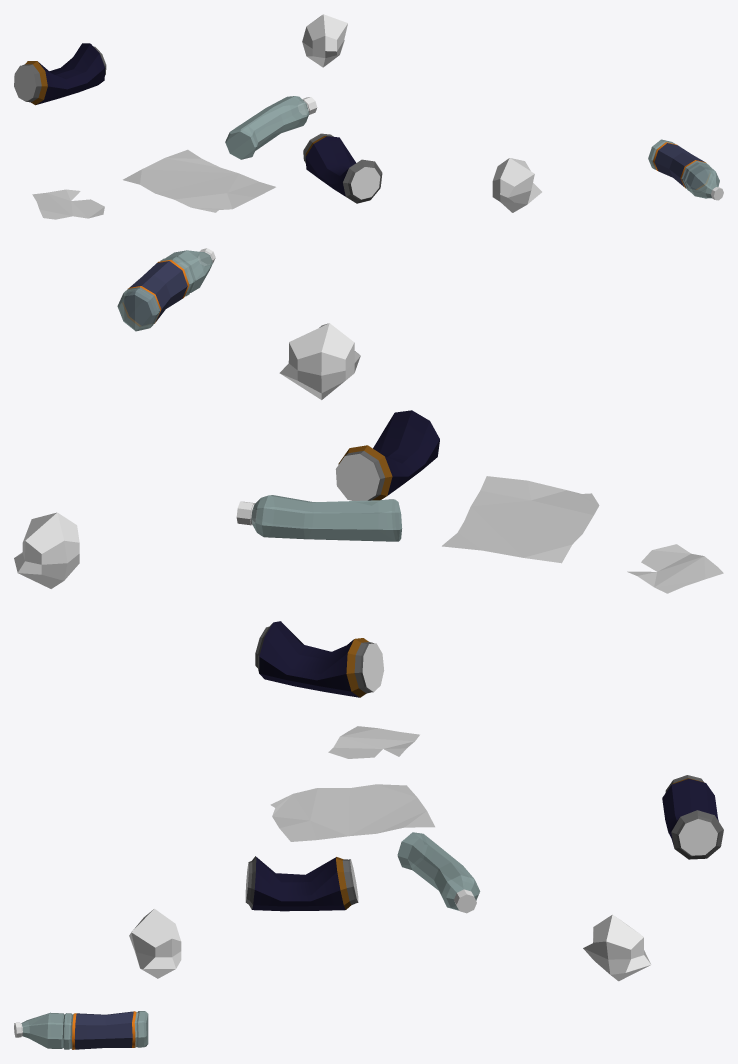
File: WarehouseTrash6.glb
The picture shows the model from 3 angles, top to bottom: view 1: azimuth 30°, elevation 25°; view 2: azimuth 150°, elevation 25°; view 3: azimuth 270°, elevation 25°; orthographic projection. The views are drawn at different scales.
Parts seen in each view (by area): view 1: SM_Paper_04.006, Soda.010, Soda.011, SM_Bottle_A_02.003, SM_Bottle_A_01.002, CrumpledPaper.006, CrumpledPaper.005, SM_Paper_03.004; view 2: SM_Paper_04.006, SM_Bottle_A_02.003, Soda.010, Soda.011, SM_Bottle_A_01.002, CrumpledPaper.006, CrumpledPaper.005, SM_Paper_03.004; view 3: SM_Paper_04.006, Soda.011, SM_Bottle_A_01.002, Soda.010, SM_Bottle_A_02.003, CrumpledPaper.005, CrumpledPaper.006, SM_Paper_03.004.
Part boxes in pixels (box(x1,y1,x2,y2)): SM_Paper_04.006: box(123, 149, 275, 212); Soda.010: box(14, 43, 106, 105); Soda.011: box(303, 133, 382, 203); SM_Bottle_A_02.003: box(225, 96, 317, 159); SM_Bottle_A_01.002: box(648, 139, 723, 200); CrumpledPaper.006: box(492, 158, 541, 212); CrumpledPaper.005: box(302, 14, 347, 67); SM_Paper_03.004: box(32, 189, 104, 219); SM_Paper_04.006: box(442, 476, 599, 563); SM_Bottle_A_02.003: box(236, 495, 402, 541); Soda.010: box(255, 621, 384, 697); Soda.011: box(335, 410, 439, 500); SM_Bottle_A_01.002: box(117, 248, 215, 331); CrumpledPaper.006: box(279, 323, 360, 399); CrumpledPaper.005: box(14, 512, 79, 588); SM_Paper_03.004: box(627, 544, 723, 593); SM_Paper_04.006: box(270, 784, 434, 841); Soda.011: box(245, 856, 358, 911); SM_Bottle_A_01.002: box(14, 1011, 148, 1049); Soda.010: box(662, 775, 723, 859); SM_Bottle_A_02.003: box(397, 832, 480, 913); CrumpledPaper.005: box(583, 914, 651, 981); CrumpledPaper.006: box(129, 908, 181, 978); SM_Paper_03.004: box(328, 726, 419, 758).
Bounding box in the file's own units: 0.6594 × 0.0663 × 0.6293.
